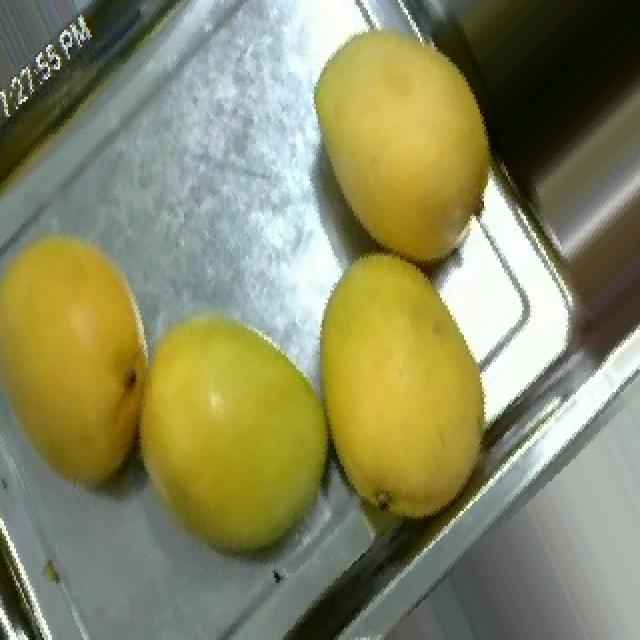fruit: (82, 265, 388, 598), (258, 211, 544, 551), (258, 0, 530, 298), (0, 186, 216, 533)
